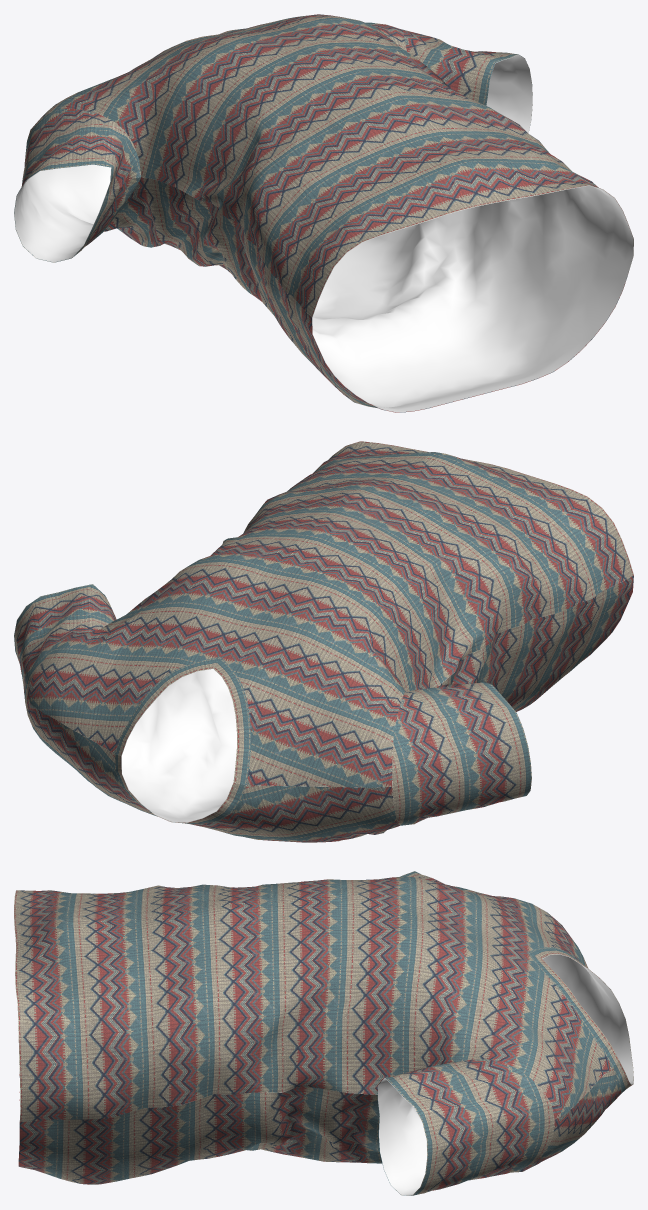
File: male_skn.glb
The picture shows the model from 3 angles, top to bottom: view 1: azimuth 30°, elevation 25°; view 2: azimuth 150°, elevation 25°; view 3: azimuth 270°, elevation 25°; orthographic projection.
Visible parts, largest first — view 1: male_skn; view 2: male_skn; view 3: male_skn.
Boxes of the visible parts, box(x1,y1,x2,y2) form: male_skn: box(14, 14, 633, 412); male_skn: box(14, 441, 633, 842); male_skn: box(14, 871, 633, 1195).
Size of the model in its own units: 0.6493 by 0.3066 by 0.6638.
2 materials, 1 textured.
